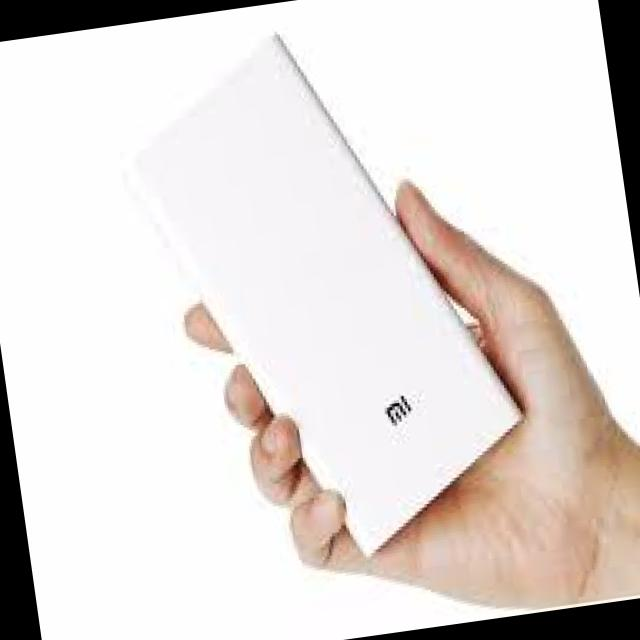power_bank: (113, 8, 544, 590)
